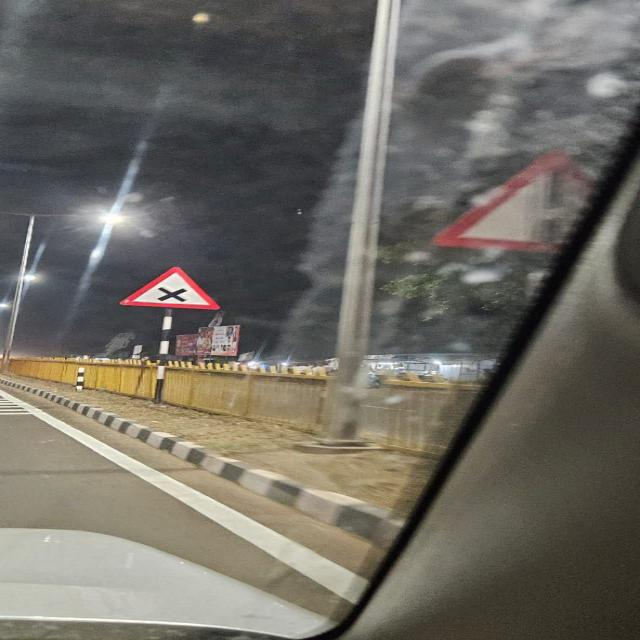Crossroads: (110, 267, 232, 314)
